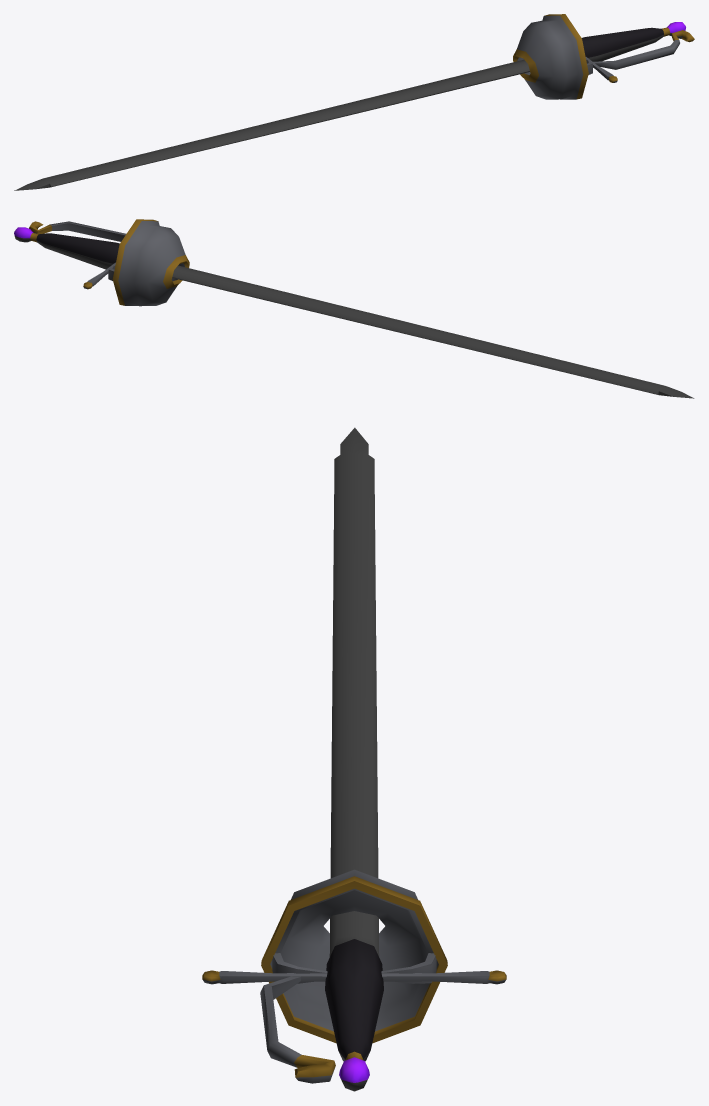
The model's file is x_rapier_pickup.fbx.
The picture shows the model from 3 angles, top to bottom: view 1: azimuth 30°, elevation 25°; view 2: azimuth 150°, elevation 25°; view 3: azimuth 270°, elevation 25°; orthographic projection. The views are drawn at different scales.
Visible parts, largest first — view 1: x_rapier_pickup_baked; view 2: x_rapier_pickup_baked; view 3: x_rapier_pickup_baked.
Boxes of the visible parts, x1,y1,x2,y2 form: x_rapier_pickup_baked: (14,14,694,190); x_rapier_pickup_baked: (14,219,694,398); x_rapier_pickup_baked: (202,427,506,1091).
Bounding box in the file's own units: 0.8378 × 0.1009 × 0.1642.
